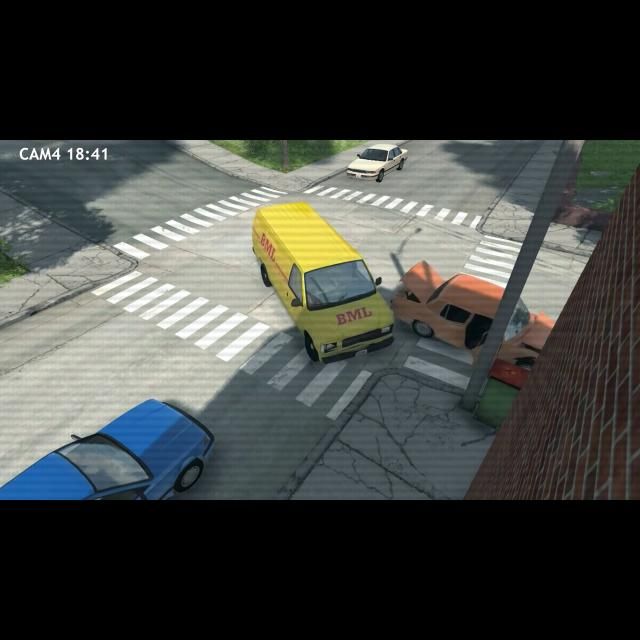accident: (239, 196, 505, 363)
